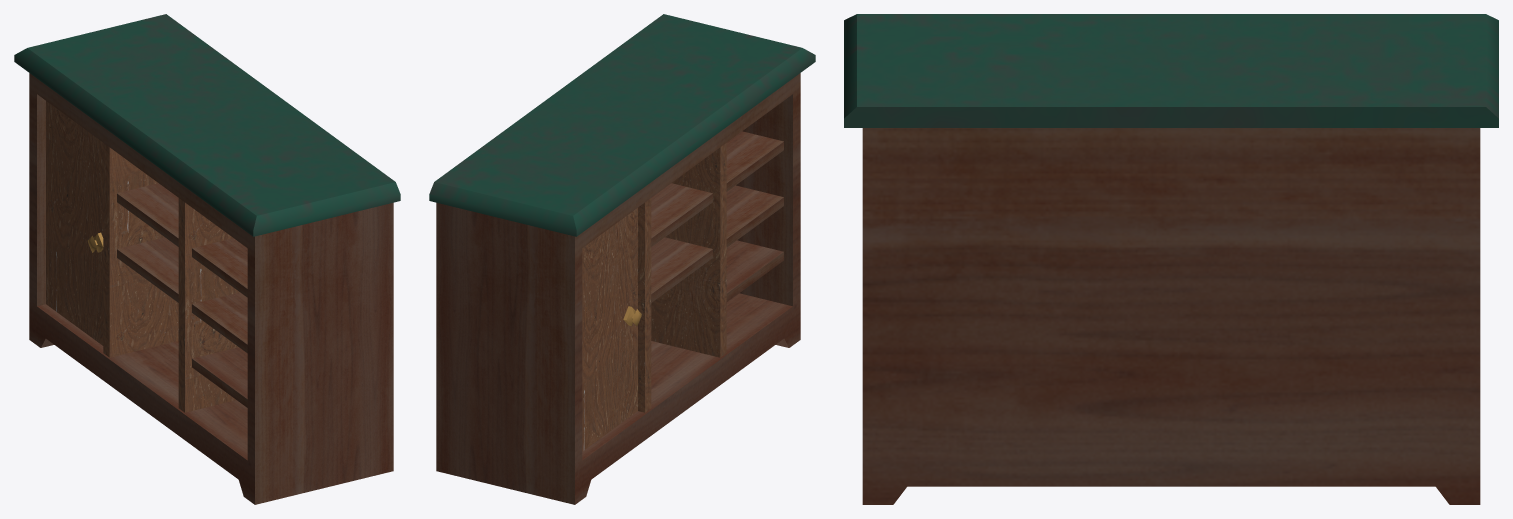
File: Tumba1.fbx
3 renders of one model, left to right at view 1: azimuth 30°, elevation 25°; view 2: azimuth 150°, elevation 25°; view 3: azimuth 270°, elevation 25°, orthographic. The views are drawn at different scales.
Visible parts, largest first — view 1: Tumba1; view 2: Tumba1; view 3: Tumba1.
Boxes of the visible parts, x1,y1,x2,y2 form: Tumba1: (14, 14, 400, 504); Tumba1: (429, 14, 815, 504); Tumba1: (844, 14, 1498, 504).
Bounding box in the file's own units: 79.49 × 150 × 224.
